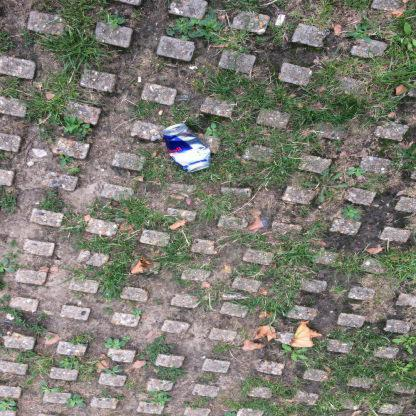Can: (162, 124, 211, 173)
Cigarette: (138, 76, 142, 82)
